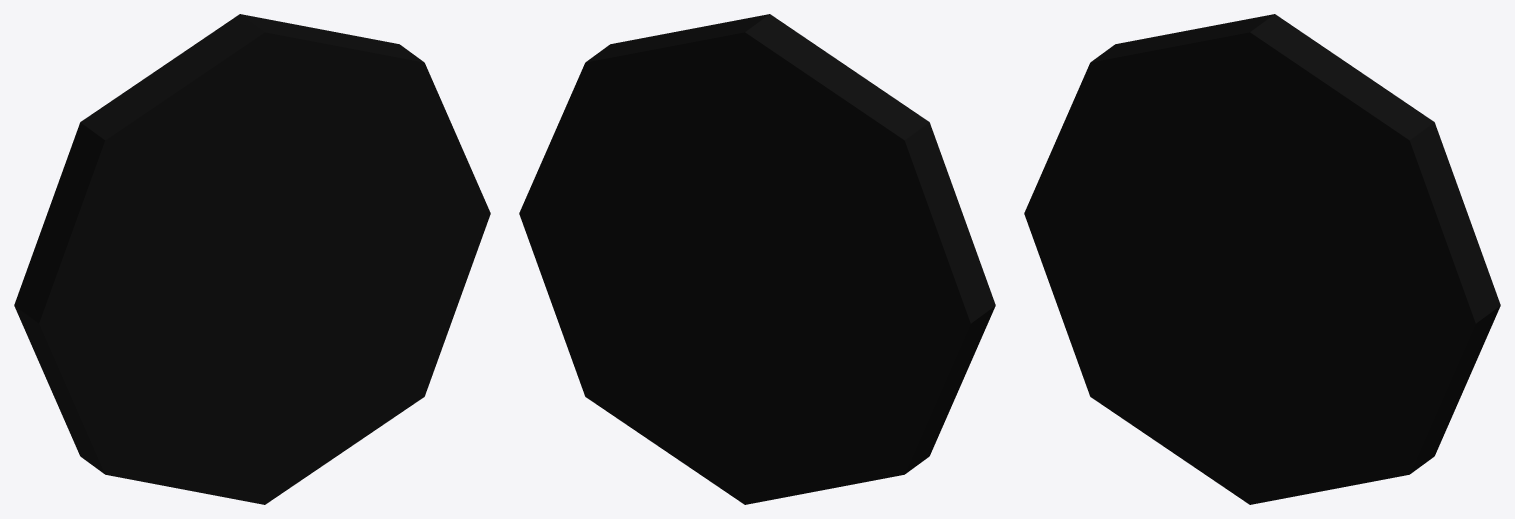
The model's file is Base_Boton.fbx.
3 renders of one model, left to right at view 1: azimuth 30°, elevation 25°; view 2: azimuth 150°, elevation 25°; view 3: azimuth 330°, elevation 25°, orthographic.
Visible parts, largest first — view 1: Base_Boton; view 2: Base_Boton; view 3: Base_Boton.
Boxes of the visible parts, <box> form: Base_Boton: <box>14,14,490,504</box>; Base_Boton: <box>519,14,995,504</box>; Base_Boton: <box>1024,14,1500,504</box>.
Size of the model in its own units: 0.0269 by 0.0269 by 0.00258.
